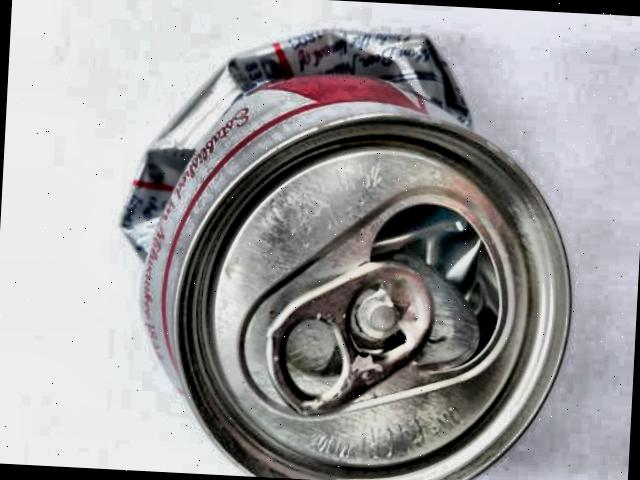Bottles: (79, 0, 577, 480)
